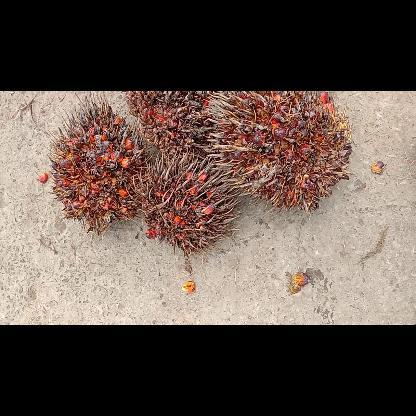Terlalu masak: (203, 90, 355, 218), (47, 90, 157, 240), (126, 144, 242, 260), (118, 91, 224, 163)
